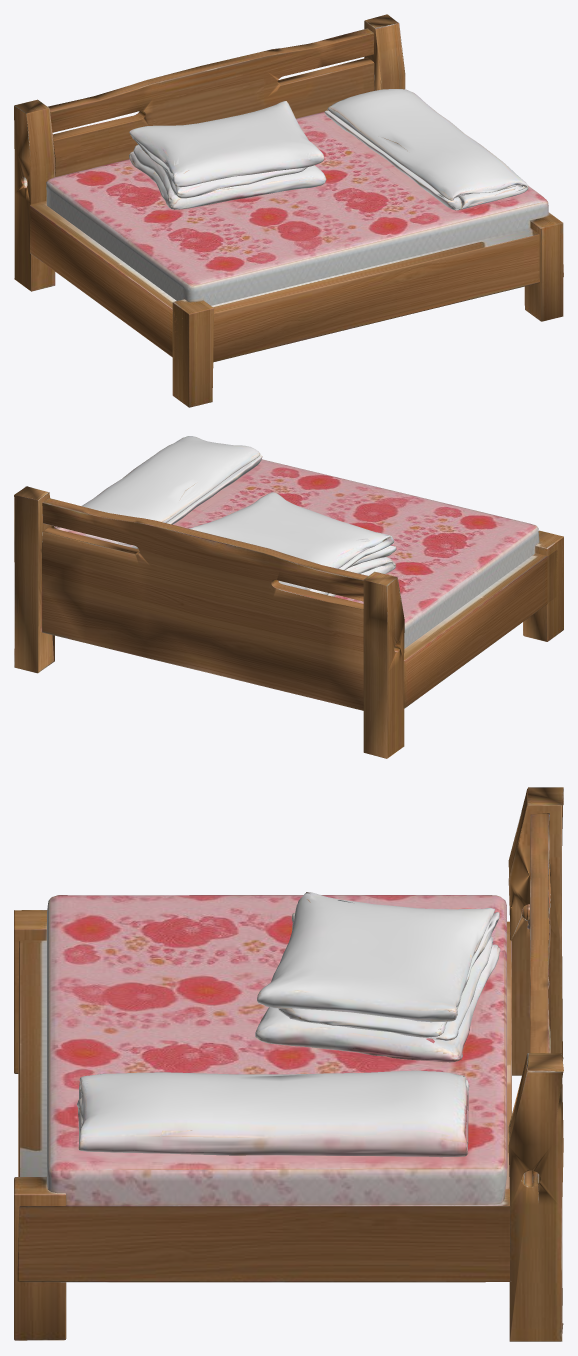
File: giuong.glb
The picture shows the model from 3 angles, top to bottom: view 1: azimuth 30°, elevation 25°; view 2: azimuth 150°, elevation 25°; view 3: azimuth 270°, elevation 25°; orthographic projection. The views are drawn at different scales.
Size of the model in its own units: 0.9487 by 0.4189 by 0.771.
1 material, 1 textured.
